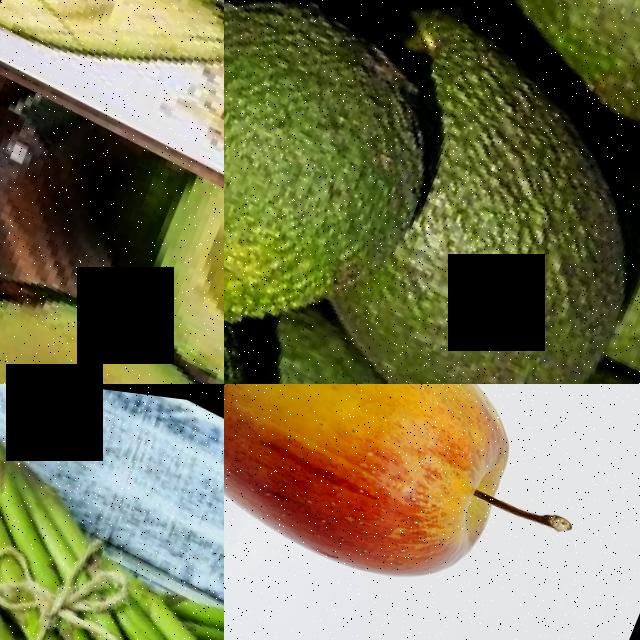apple: (224, 384, 582, 640)
asparagus: (50, 538, 224, 640)
avocado: (273, 0, 640, 384), (224, 0, 465, 384), (64, 128, 224, 384), (0, 227, 224, 384), (0, 0, 224, 134), (459, 0, 640, 144), (224, 0, 463, 92), (227, 292, 434, 384)
